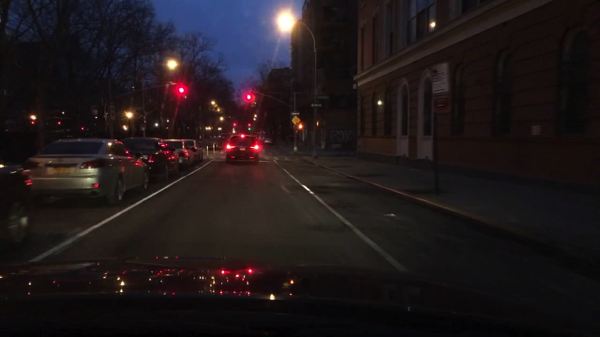car: (24, 138, 151, 207), (0, 159, 34, 260), (119, 137, 180, 184), (224, 132, 261, 165), (165, 139, 196, 167), (184, 140, 204, 163), (206, 137, 225, 150), (264, 135, 274, 145), (258, 131, 265, 141)
traffic light: (316, 120, 326, 128), (177, 87, 184, 98), (251, 94, 258, 105), (246, 92, 251, 105), (297, 122, 304, 130), (247, 120, 252, 128), (233, 121, 238, 128)
traffic sign: (432, 62, 451, 114), (316, 93, 330, 101), (310, 102, 321, 110), (290, 110, 301, 117), (292, 116, 299, 125)
